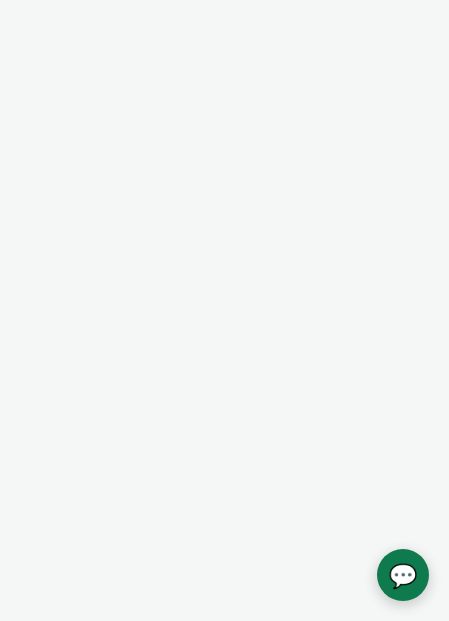
NavigationAssistant › shows resolver suggestions in the top action row without navigating automatically
Click the button named "Open assistant" at (403, 575), box x1=377 y1=549 x2=429 y2=601
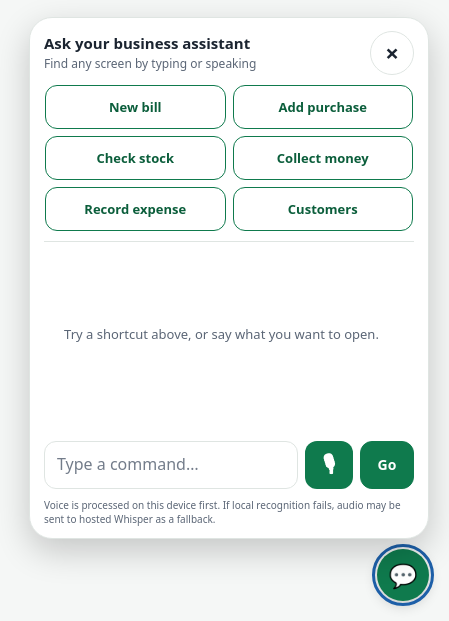
Type "check stock" into the field named "Ask your business assistant" at (171, 465), box x1=44 y1=441 x2=298 y2=489
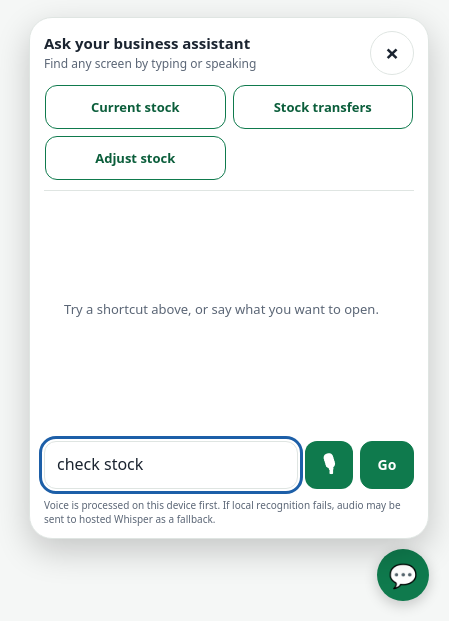
Result: the button "Current stock" is shown at x1=45 y1=85 x2=226 y2=129
